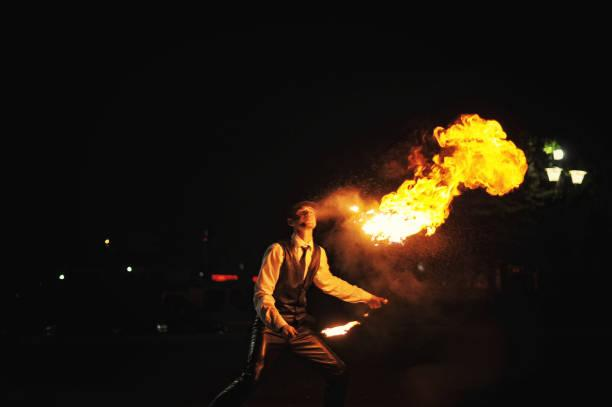Fire: (339, 45, 563, 262), (526, 144, 526, 148), (567, 37, 567, 45)
